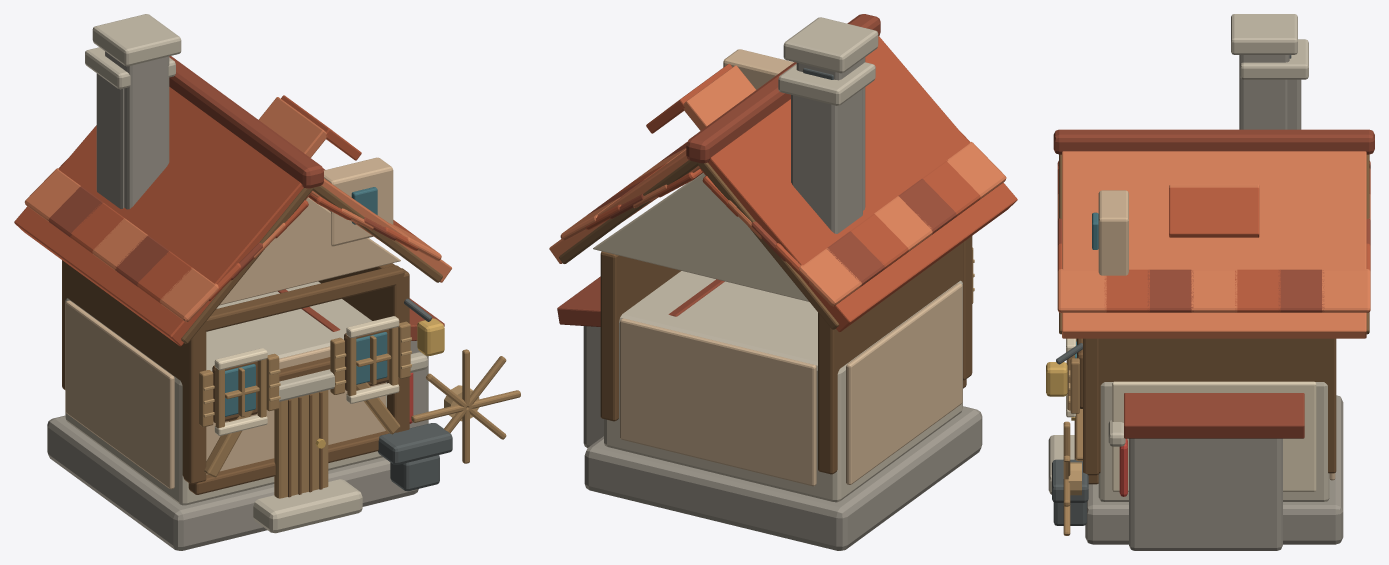
The model's file is workshop.glb.
3 renders of one model, left to right at view 1: azimuth 30°, elevation 25°; view 2: azimuth 150°, elevation 25°; view 3: azimuth 270°, elevation 25°, orthographic. The views are drawn at different scales.
Parts seen in each view (by area): view 1: BlacksmithWorkshop_Geometry; view 2: BlacksmithWorkshop_Geometry; view 3: BlacksmithWorkshop_Geometry.
Boxes of the visible parts, x1=… form: BlacksmithWorkshop_Geometry: x1=14, y1=14, x2=520, y2=550; BlacksmithWorkshop_Geometry: x1=549, y1=14, x2=1017, y2=550; BlacksmithWorkshop_Geometry: x1=1046, y1=14, x2=1374, y2=550.
Size of the model in its own units: 2.35 by 2.83 by 1.96.
